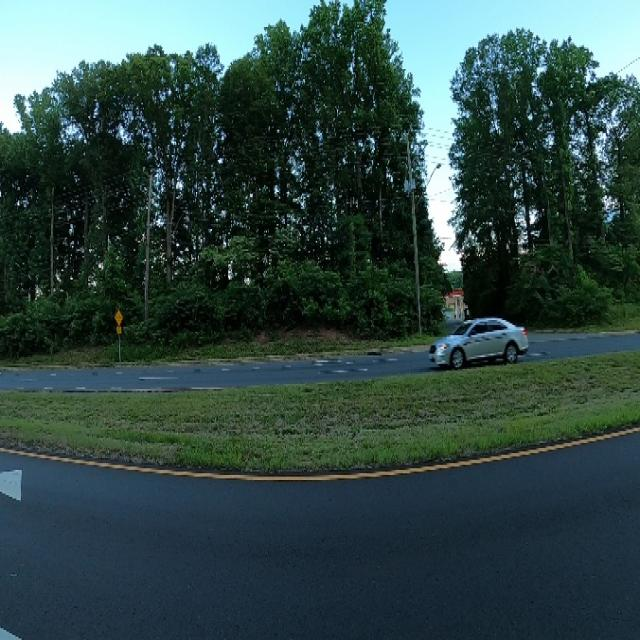car: (416, 303, 534, 372)
